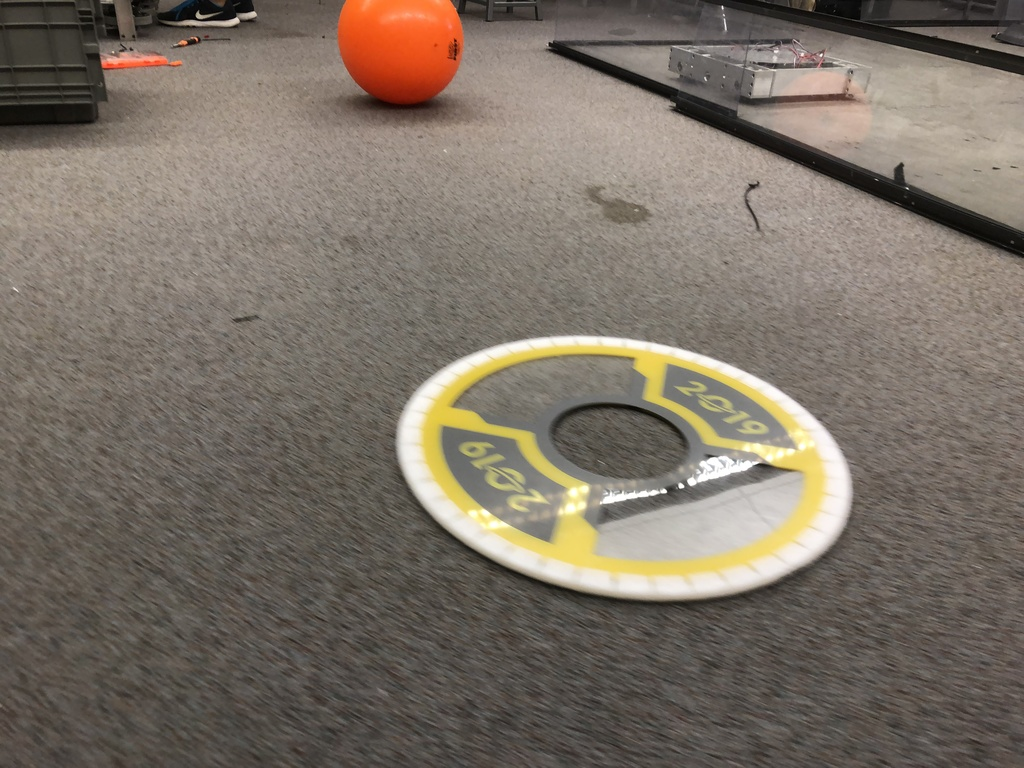hatch_panel: (379, 326, 883, 609)
